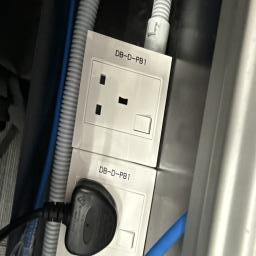outlet: (72, 39, 174, 151), (53, 164, 164, 256)
